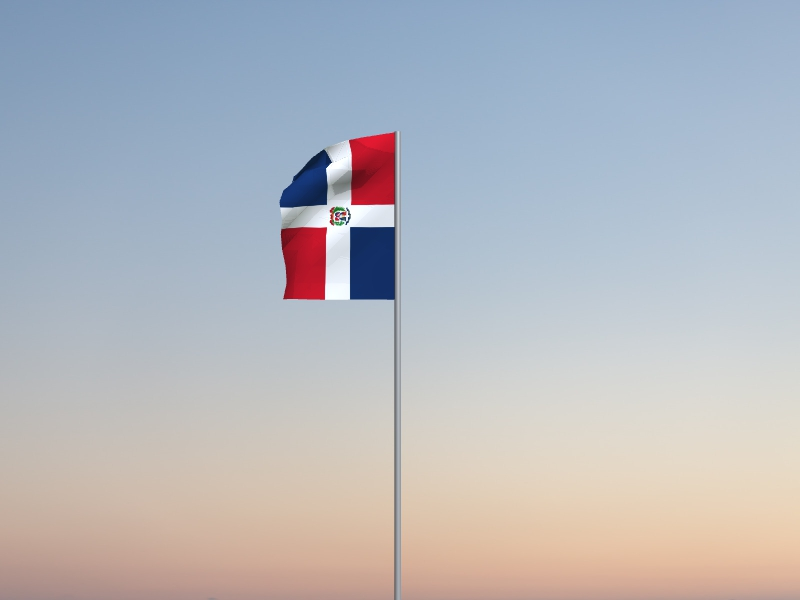do: (278, 133, 395, 302)
